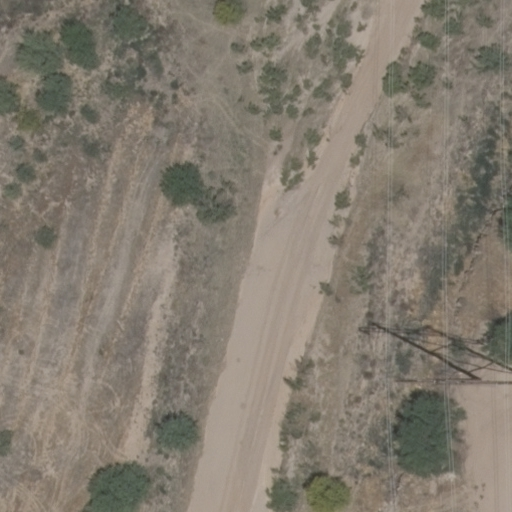DT: (374, 363, 512, 400)
